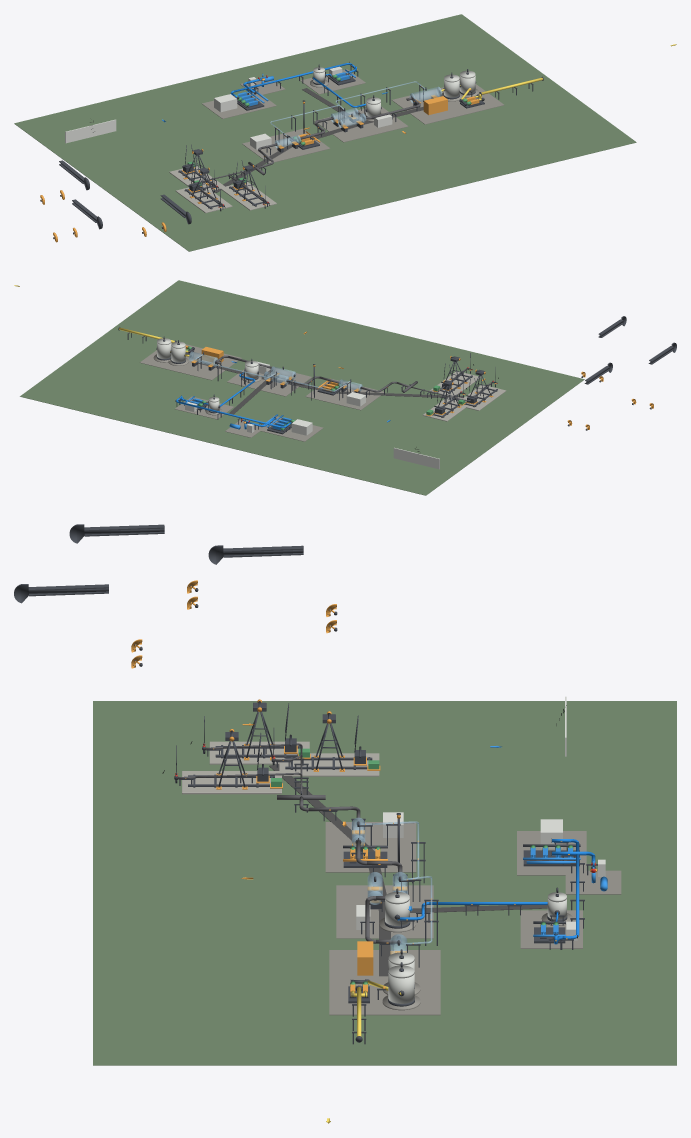
File: field_development_complex.fbx
The picture shows the model from 3 angles, top to bottom: view 1: azimuth 30°, elevation 25°; view 2: azimuth 150°, elevation 25°; view 3: azimuth 270°, elevation 25°; orthographic projection. The views are drawn at different scales.
Parts seen in each view (by area): view 1: Field_ground, UPN_pad, UPSV_pad, DNS_pad, Legend_panel, Producing_well_2_pad, Producing_well_1_pad, BKNS_pad, KNS_pad, Producing_well_3_pad, UPN_heater; view 2: Field_ground, UPN_pad, UPSV_pad, DNS_pad, Legend_panel, Producing_well_1_pad, Producing_well_2_pad, Producing_well_3_pad, BKNS_pad, KNS_pad; view 3: Field_ground, UPN_pad, UPSV_pad, DNS_pad, Producing_well_2_pad, BKNS_pad, Producing_well_3_pad, Producing_well_1_pad, KNS_pad, Injection_well_pad.
Boxes of the visible parts, bbox=[...] form: Field_ground: bbox=[14, 14, 636, 251]; UPN_pad: bbox=[392, 84, 504, 124]; UPSV_pad: bbox=[314, 106, 408, 142]; DNS_pad: bbox=[242, 128, 330, 163]; Legend_panel: bbox=[65, 119, 116, 143]; Producing_well_2_pad: bbox=[220, 182, 276, 210]; Producing_well_1_pad: bbox=[175, 187, 232, 213]; BKNS_pad: bbox=[202, 93, 276, 118]; KNS_pad: bbox=[300, 69, 365, 94]; Producing_well_3_pad: bbox=[169, 166, 224, 193]; UPN_heater: bbox=[423, 96, 447, 115]; Field_ground: bbox=[20, 280, 584, 495]; UPN_pad: bbox=[140, 342, 241, 380]; UPSV_pad: bbox=[227, 368, 311, 396]; DNS_pad: bbox=[305, 379, 385, 410]; Legend_panel: bbox=[393, 447, 439, 469]; Producing_well_1_pad: bbox=[462, 385, 506, 410]; Producing_well_2_pad: bbox=[430, 371, 480, 395]; Producing_well_3_pad: bbox=[422, 396, 469, 421]; BKNS_pad: bbox=[261, 415, 323, 441]; KNS_pad: bbox=[175, 396, 233, 419]; Field_ground: bbox=[93, 701, 676, 1065]; UPN_pad: bbox=[329, 950, 440, 1015]; UPSV_pad: bbox=[336, 885, 433, 938]; DNS_pad: bbox=[325, 822, 416, 872]; Producing_well_2_pad: bbox=[182, 771, 281, 794]; BKNS_pad: bbox=[517, 831, 586, 875]; Producing_well_3_pad: bbox=[279, 753, 379, 776]; Producing_well_1_pad: bbox=[209, 741, 309, 764]; KNS_pad: bbox=[520, 910, 582, 948]; Injection_well_pad: bbox=[565, 870, 621, 894].
Bounding box in the file's own units: 9184 × 815 × 4767.
